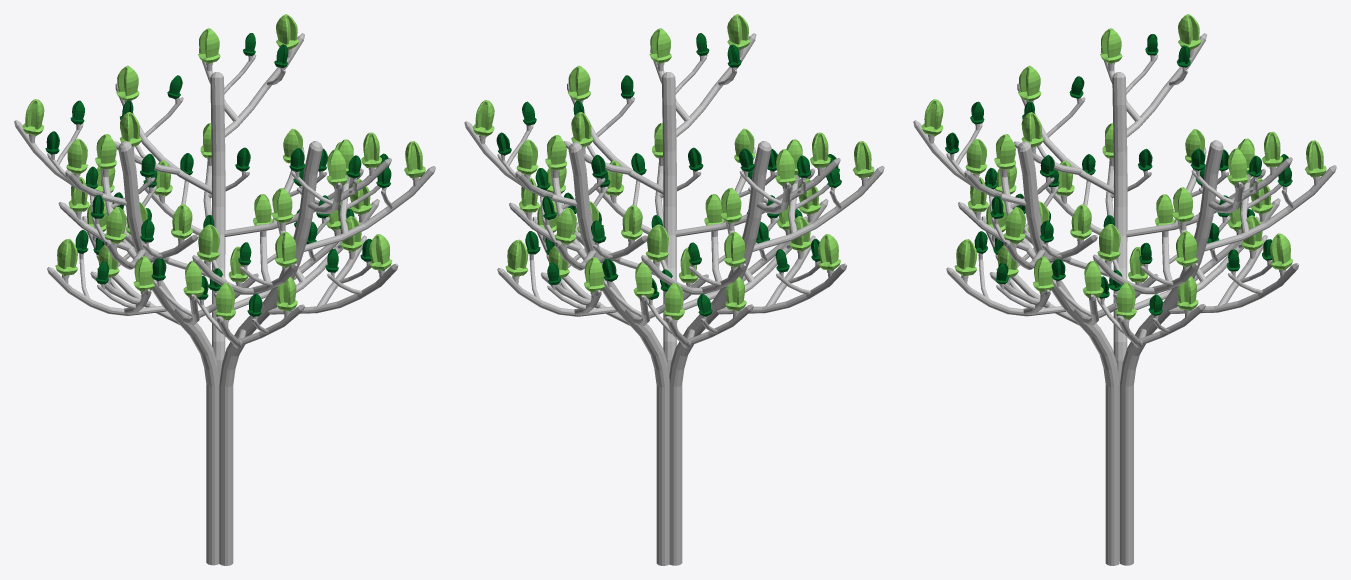
Rendered from windTree.fbx.
The picture shows the model from 3 angles, left to right: view 1: azimuth 30°, elevation 25°; view 2: azimuth 150°, elevation 25°; view 3: azimuth 270°, elevation 25°; orthographic projection.
Visible parts, largest first — view 1: tree_treeStomp, polySurface118, polySurface80, polySurface114, polySurface133, polySurface115, polySurface32, polySurface129, polySurface56, polySurface128, polySurface46, polySurface34 (+10 smaller); view 2: tree_treeStomp, polySurface56, polySurface126, polySurface80, polySurface121, polySurface58, polySurface133, polySurface117, polySurface116, polySurface130, polySurface128, polySurface129 (+10 smaller); view 3: tree_treeStomp, polySurface130, polySurface114, polySurface126, polySurface32, polySurface127, polySurface121, polySurface44, polySurface118, polySurface46, polySurface116, polySurface117 (+10 smaller).
Boxes of the visible parts, x1,y1,x2,y2 form: tree_treeStomp: (14, 33, 435, 565); polySurface118: (197, 224, 219, 261); polySurface80: (55, 238, 77, 275); polySurface114: (369, 234, 392, 270); polySurface133: (116, 65, 139, 101); polySurface115: (274, 231, 296, 267); polySurface32: (104, 206, 126, 243); polySurface129: (276, 14, 299, 50); polySurface56: (95, 134, 116, 169); polySurface128: (198, 28, 220, 63); polySurface46: (66, 138, 88, 174); polySurface34: (171, 204, 192, 239); tree_treeStomp: (464, 33, 884, 565); polySurface56: (645, 224, 668, 261); polySurface126: (505, 239, 528, 276); polySurface80: (818, 234, 840, 270); polySurface121: (567, 65, 590, 101); polySurface58: (723, 231, 745, 267); polySurface133: (554, 207, 576, 244); polySurface117: (727, 14, 750, 50); polySurface116: (649, 28, 671, 63); polySurface130: (545, 135, 566, 170); polySurface128: (516, 139, 538, 175); polySurface129: (472, 100, 494, 136); tree_treeStomp: (913, 33, 1336, 565); polySurface130: (1097, 224, 1120, 261); polySurface114: (954, 239, 977, 276); polySurface126: (1270, 233, 1292, 270); polySurface32: (1018, 65, 1041, 101); polySurface127: (1175, 231, 1197, 267); polySurface121: (1003, 207, 1025, 244); polySurface44: (1178, 14, 1201, 50); polySurface118: (994, 134, 1015, 169); polySurface46: (1100, 28, 1122, 63); polySurface116: (965, 138, 987, 174); polySurface117: (921, 99, 943, 135).
Size of the model in its own units: 2.84 by 3.84 by 3.11.
